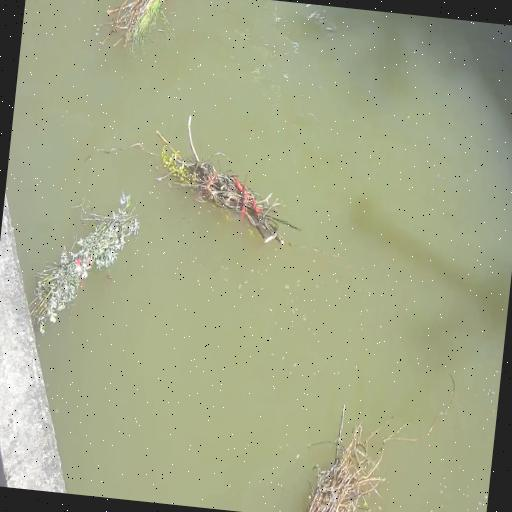twig: (157, 116, 300, 245), (30, 191, 140, 333), (307, 404, 418, 512), (102, 0, 170, 52)
